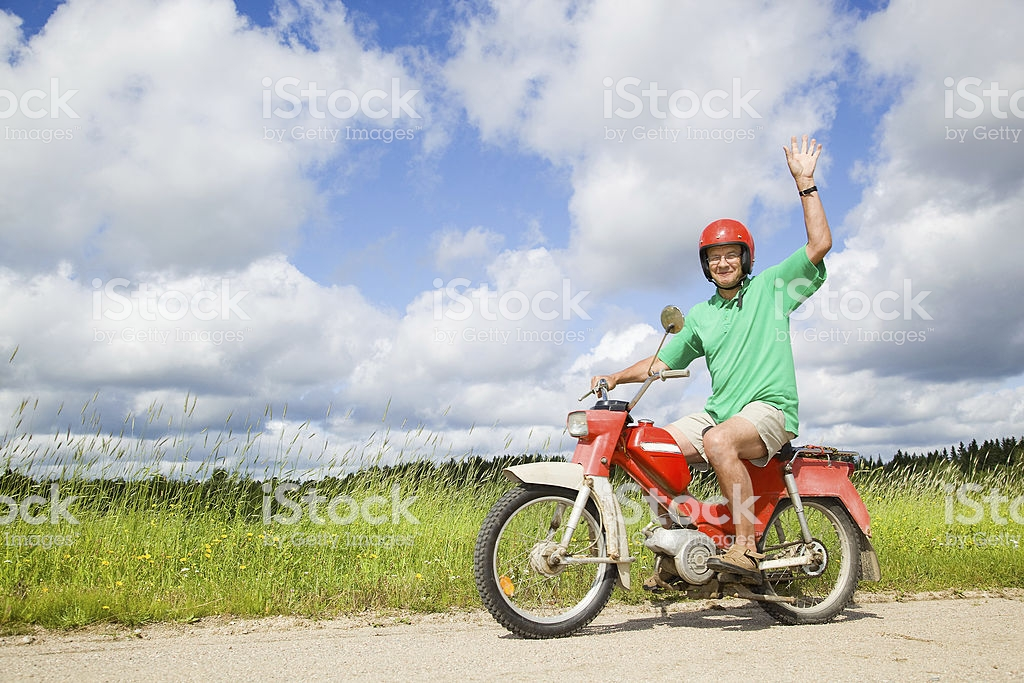helmet: (692, 216, 758, 287)
